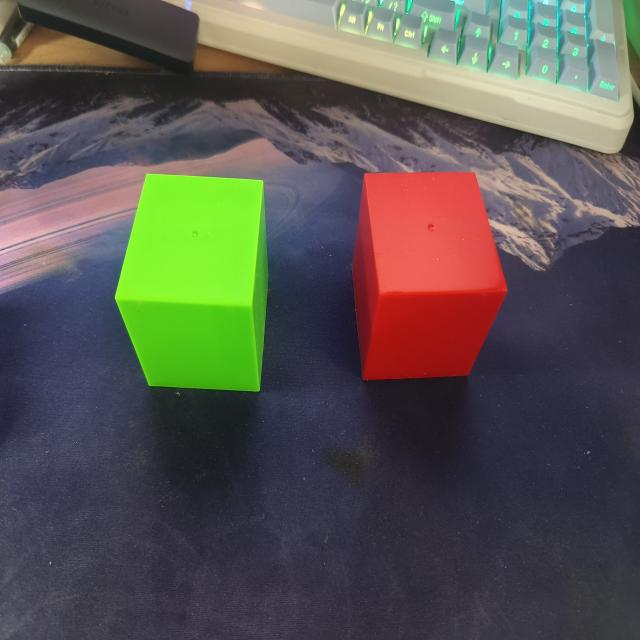green: (113, 159, 273, 399)
red: (349, 153, 513, 393)
